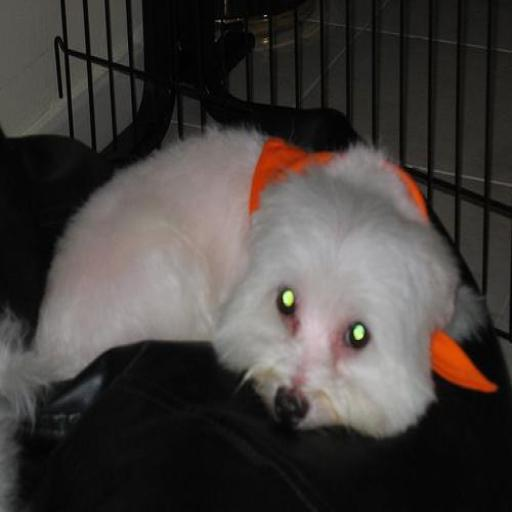dog_face: (234, 149, 445, 442)
